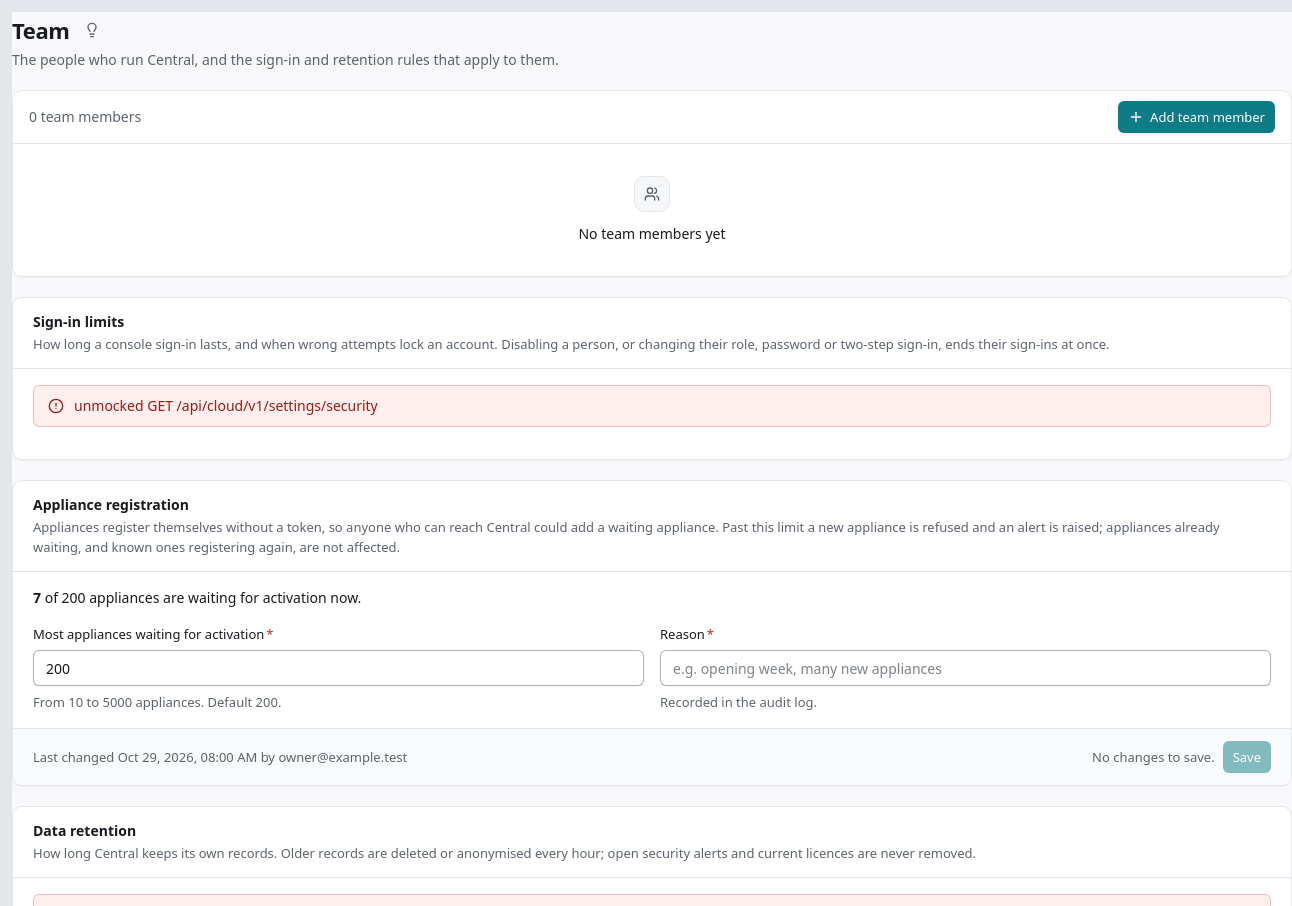
Test: System > Team: appliance registration limit (Central migration 0059) › refuses a save without a reason
Replace the text in the field labelled "Most appliances waiting for activation" with "250" at (338, 668), box [33,650,644,686]
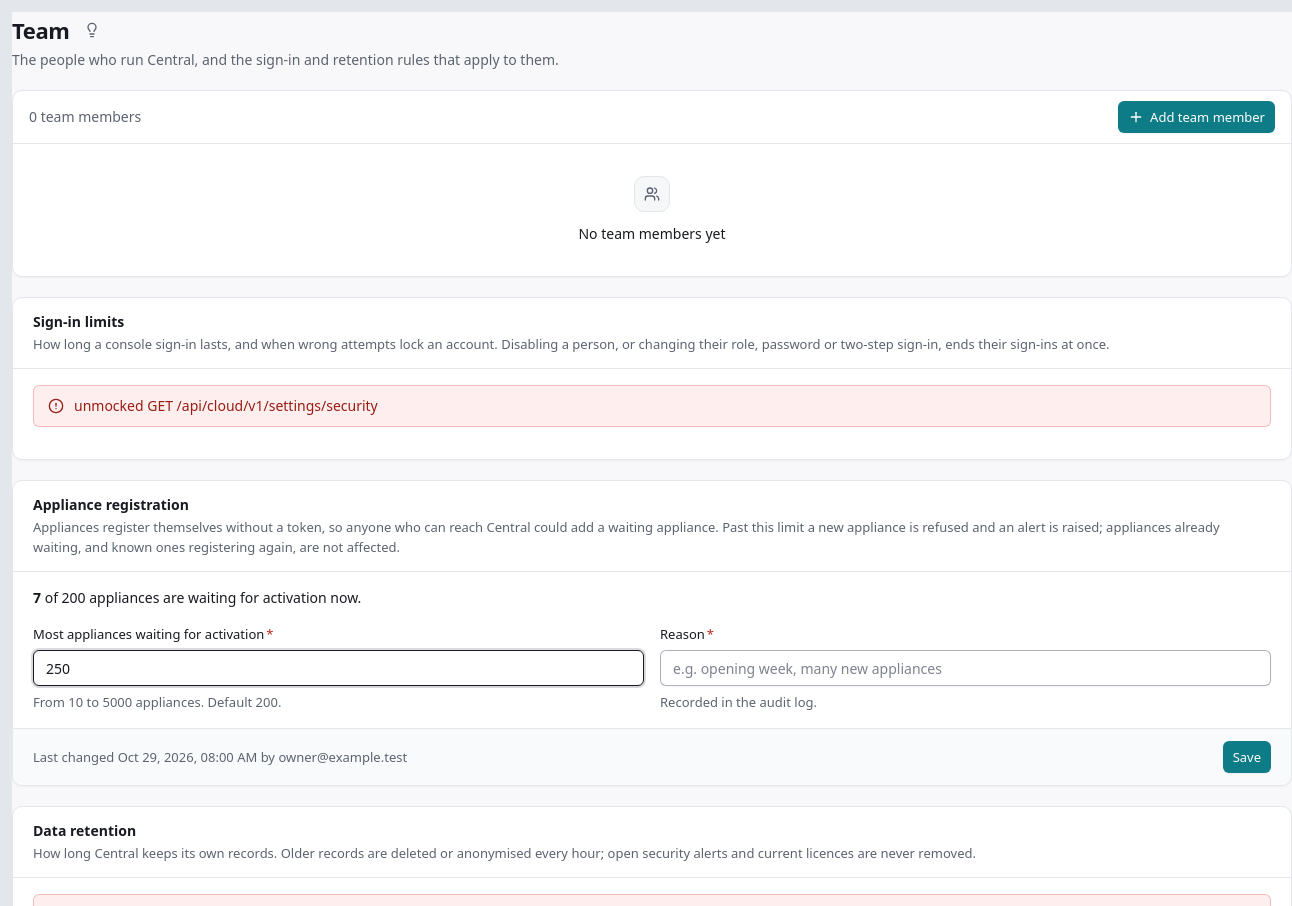
Click the button "Save" at (1247, 757), box [1223,741,1271,773]
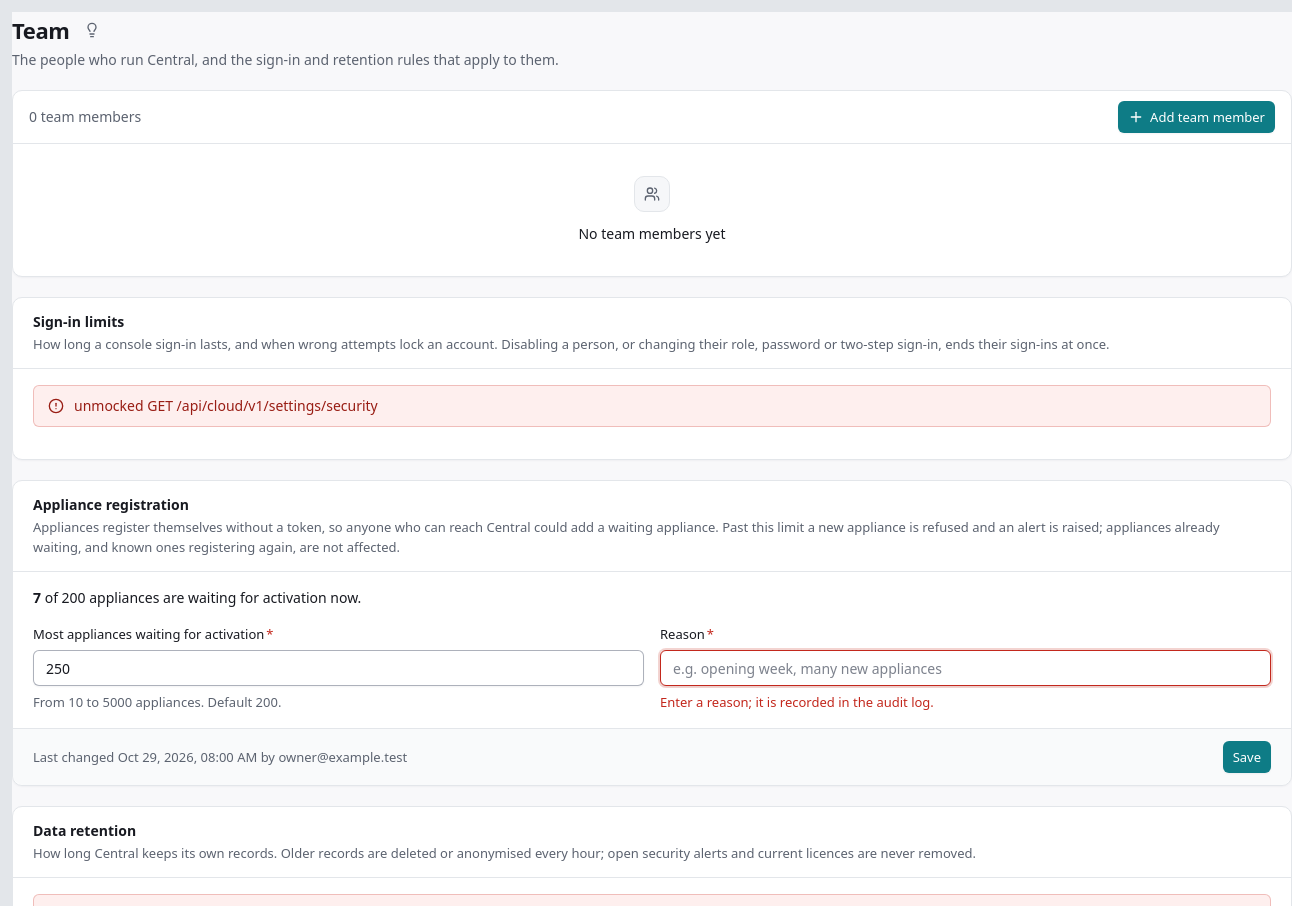
Now the text "Enter a reason; it is recorded in the audit log." is shown, box [660,693,934,711]
